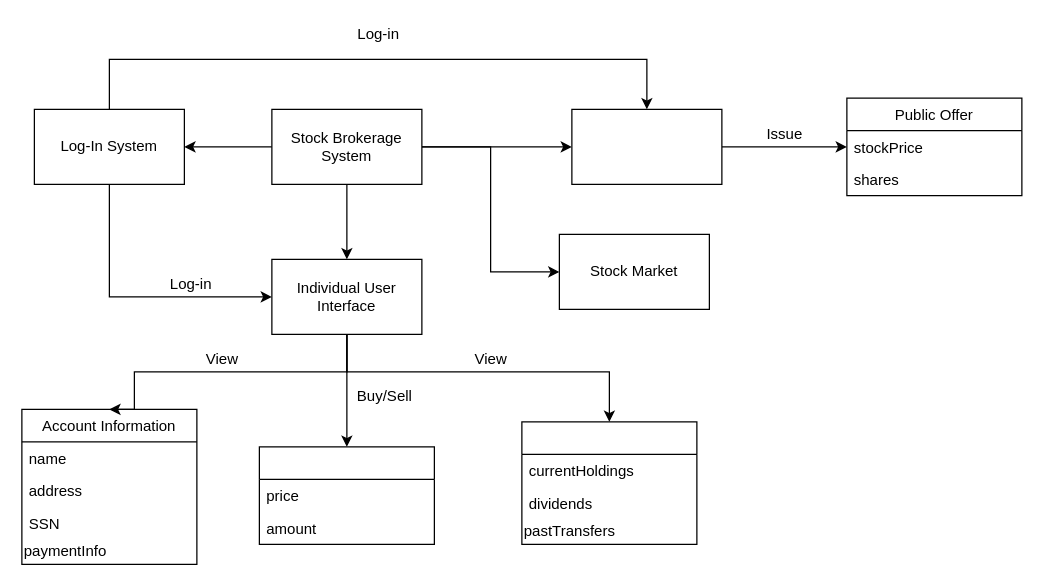
This 1044x586 diagram has some shape labels left out. Each missing label, with the box of its shape:
Company Interface: (571, 108, 722, 184)
Stock: (258, 446, 434, 544)
View Portfolio: (521, 421, 697, 544)
